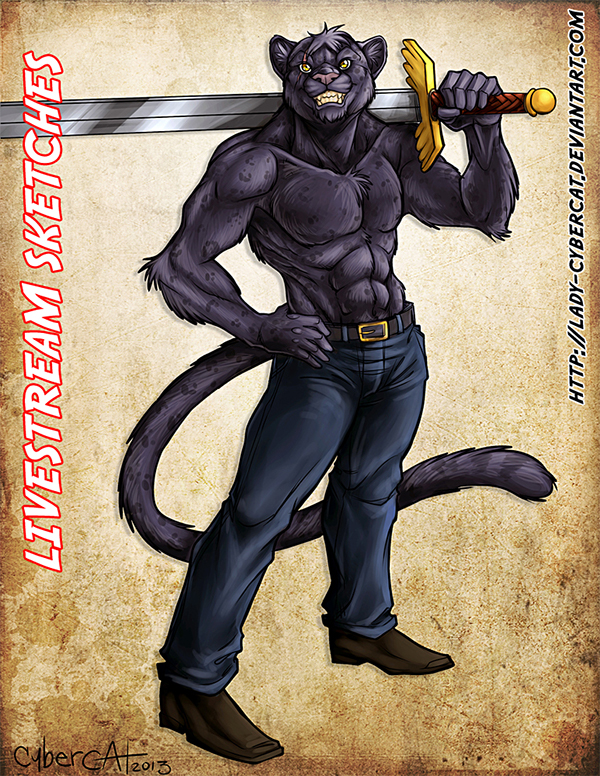cat: (119, 26, 561, 769)
